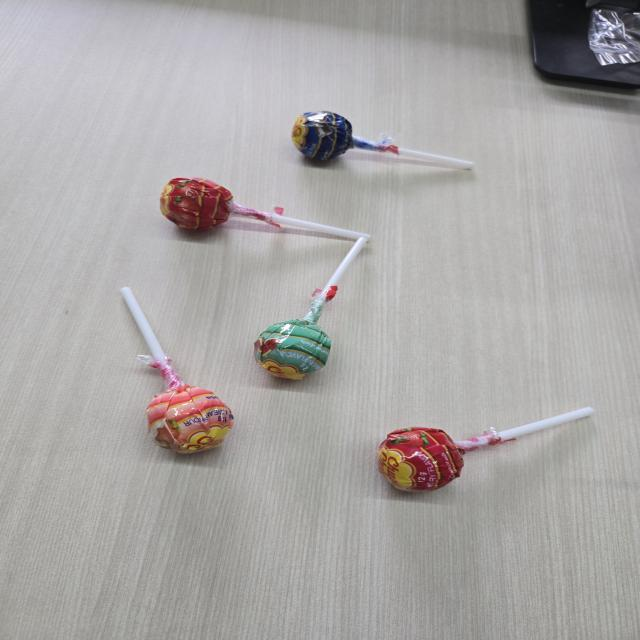lollipop: (114, 284, 242, 462), (374, 400, 598, 498), (253, 236, 369, 386), (154, 173, 370, 245), (294, 105, 476, 178)
